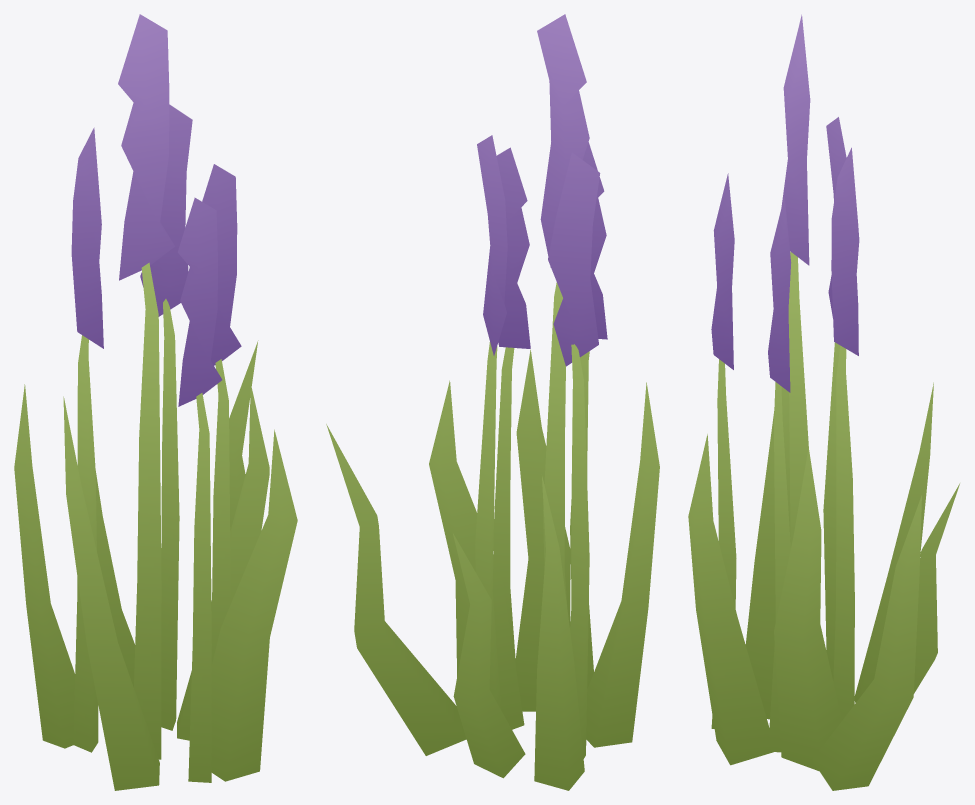
The model's file is Flower_05.fbx.
The picture shows the model from 3 angles, left to right: view 1: azimuth 30°, elevation 25°; view 2: azimuth 150°, elevation 25°; view 3: azimuth 270°, elevation 25°; orthographic projection. The views are drawn at different scales.
Parts seen in each view (by area): view 1: Flower_05_LOD0; view 2: Flower_05_LOD0; view 3: Flower_05_LOD0.
Part boxes in pixels (<box>): Flower_05_LOD0: <box>14,14,297,790</box>; Flower_05_LOD0: <box>326,14,659,790</box>; Flower_05_LOD0: <box>688,14,959,790</box>.
Size of what is drawn, in the model's own units: 0.1755 by 0.4774 by 0.1631.
